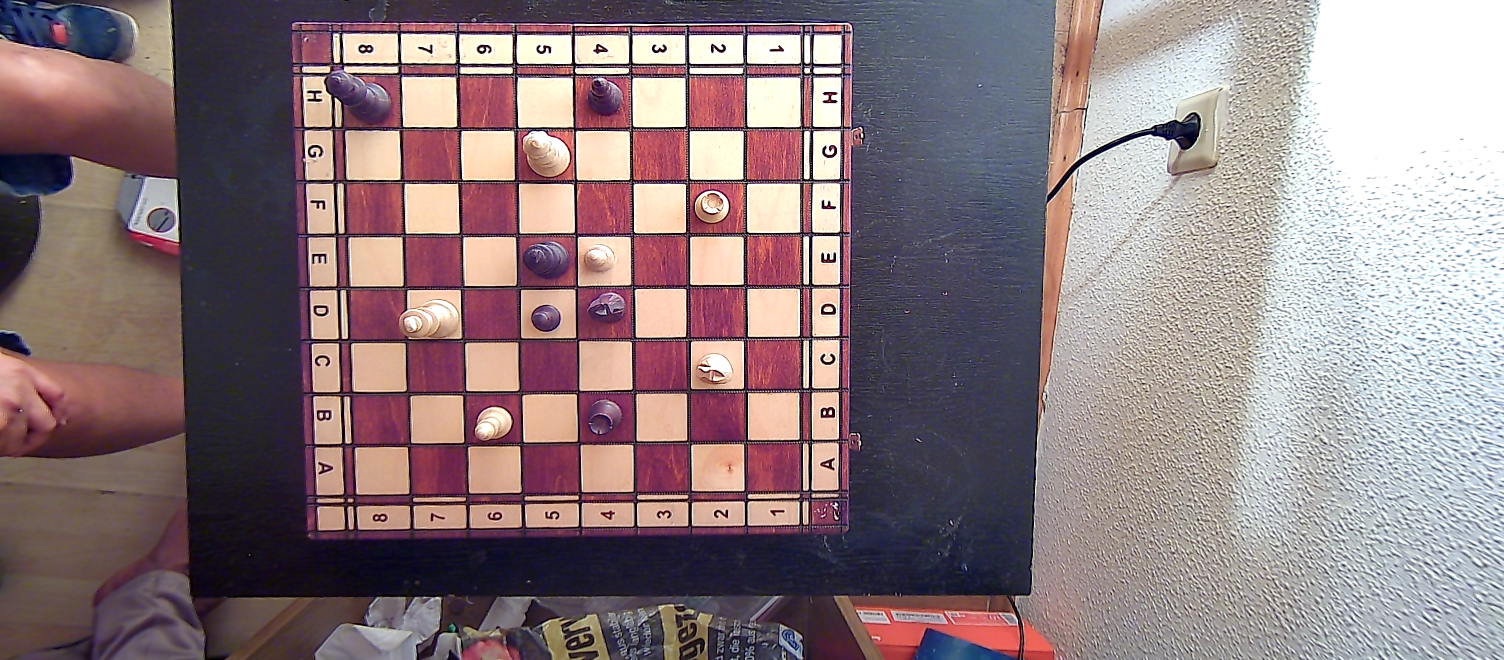black-bishop: (584, 75, 626, 120)
black-king: (520, 238, 570, 280)
black-knight: (584, 289, 628, 328)
black-pawn: (528, 300, 564, 336)
black-queen: (323, 69, 394, 123)
black-rook: (584, 398, 625, 437)
white-bishop: (470, 403, 512, 443)
white-king: (397, 298, 460, 339)
white-knight: (693, 349, 735, 389)
white-pawn: (580, 241, 617, 278)
white-queen: (522, 127, 572, 177)
white-rook: (692, 187, 732, 226)
